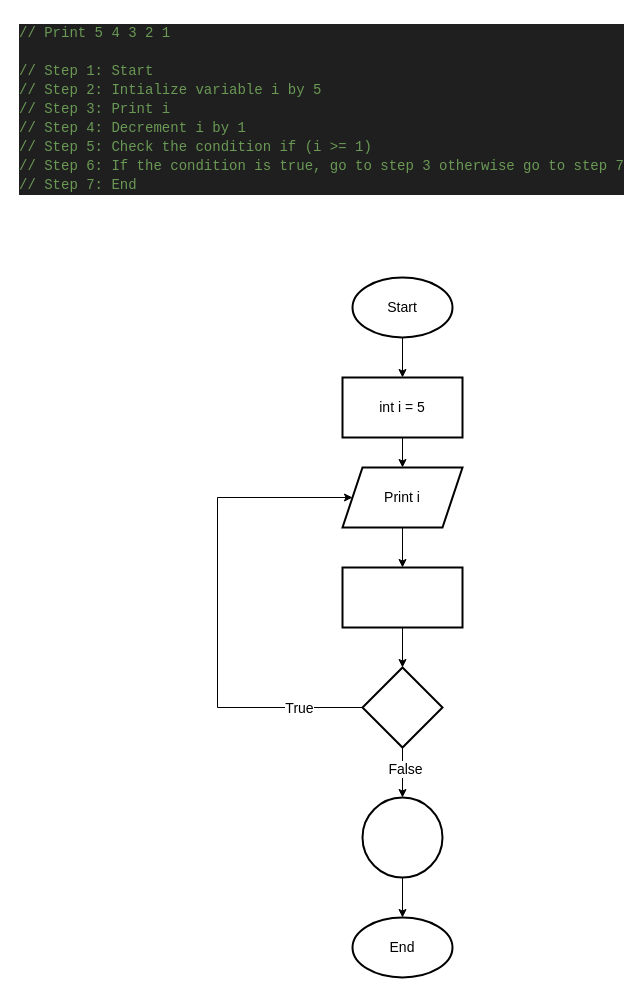
Some shapes in this 641 by 995 pixel diagram are drawn without their labels. The centre of each missing label's shape, as x and y in pixels:
"i >= 1" goes at point (402, 707).
"i--" goes at point (402, 597).
